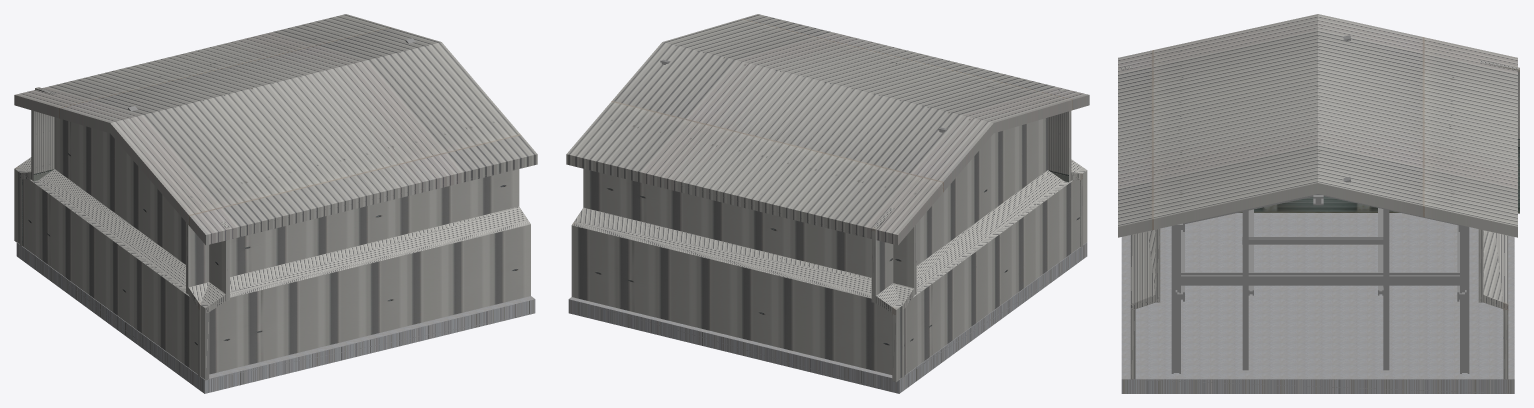
Rendered from factory_base.fbx.
3 views of the same model, side by side, from view 1: azimuth 30°, elevation 25°; view 2: azimuth 150°, elevation 25°; view 3: azimuth 270°, elevation 25° (orthographic). The views are drawn at different scales.
Parts seen in each view (by area): view 1: Cube.086, Cube.193, Cube.194, Cube.190, Cube.192; view 2: Cube.086, Cube.192, Cube.194, Cube.190, Cube.193; view 3: Cube.086, Cube.190, Cube.188, Cube.193, Cube.192, Cube.194.
Boxes of the visible parts, <box> form: Cube.086: <box>14,14,537,245</box>; Cube.193: <box>186,169,530,376</box>; Cube.194: <box>14,87,229,380</box>; Cube.190: <box>16,242,535,393</box>; Cube.192: <box>19,110,54,246</box>; Cube.086: <box>566,14,1089,245</box>; Cube.192: <box>571,168,916,377</box>; Cube.194: <box>871,89,1087,382</box>; Cube.190: <box>568,242,1087,393</box>; Cube.193: <box>1048,111,1082,247</box>; Cube.086: <box>1118,14,1517,237</box>; Cube.190: <box>1121,213,1514,393</box>; Cube.188: <box>1171,35,1469,373</box>; Cube.193: <box>1130,228,1160,379</box>; Cube.192: <box>1478,229,1508,379</box>; Cube.194: <box>1121,60,1519,213</box>.
Bounding box in the file's own units: 63663 × 37091 × 63948.
